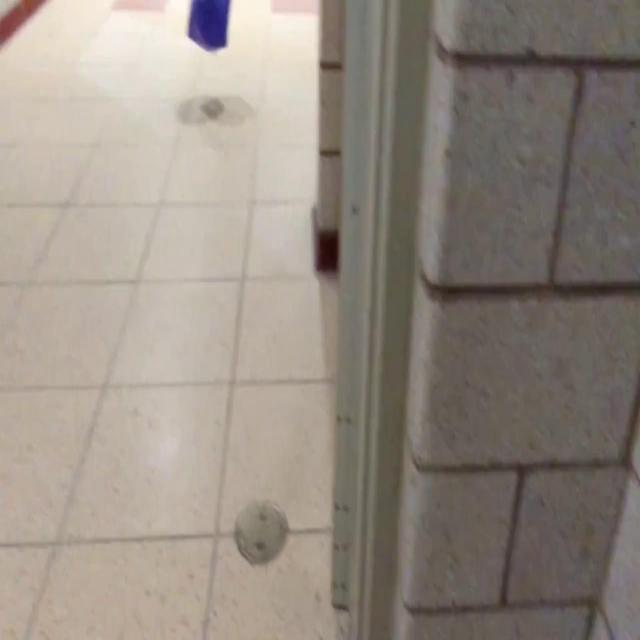frc_cube: (189, 0, 229, 52)
